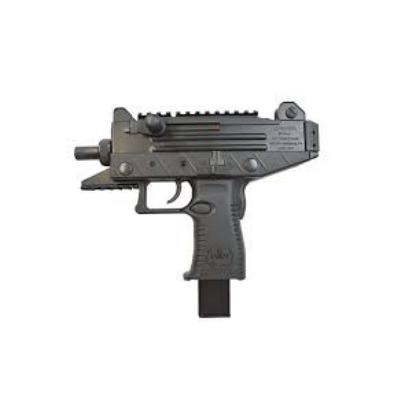gun: (72, 99, 318, 321)
